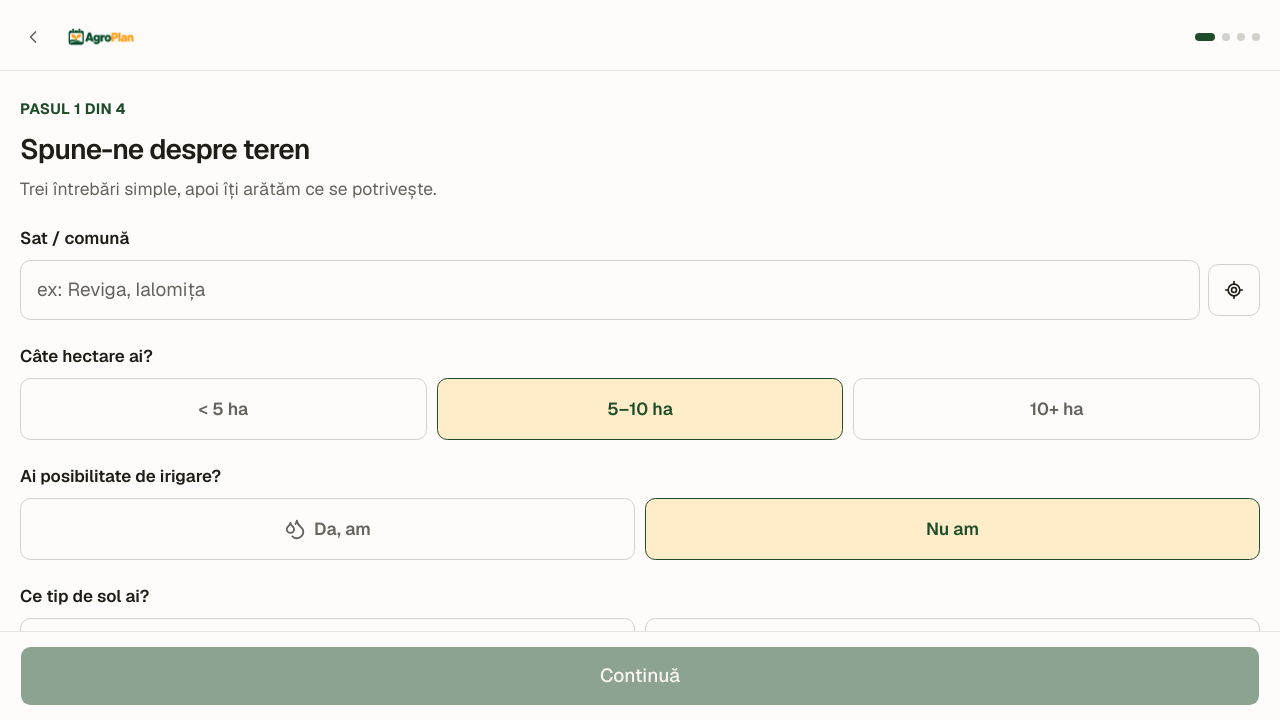
Test case: TerenScreen › shows the not-found message and stays on the form when nothing matches
Type "Xyzzy" into the field labelled "Sat / comună" at x=610, y=290, box x1=20 y1=260 x2=1200 y2=320
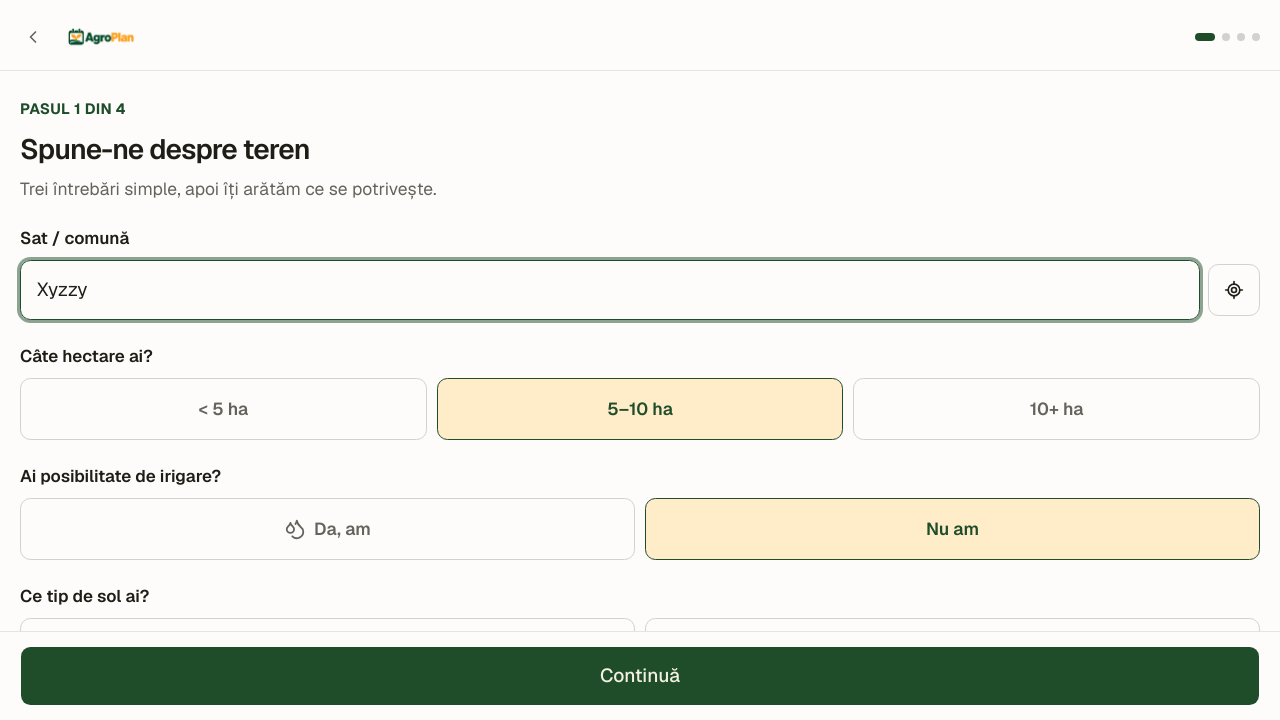
Click the button "Continuă" at x=640, y=676, box x1=20 y1=646 x2=1260 y2=706
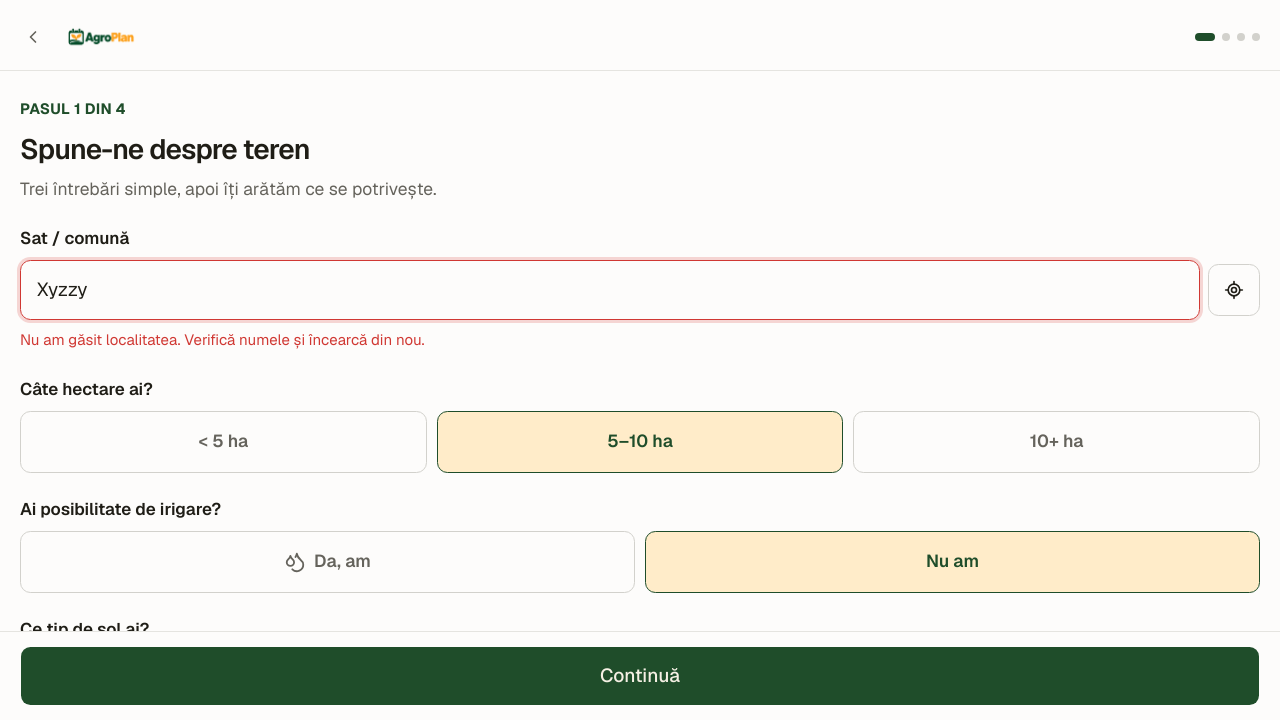
Result: the field labelled "Sat / comună" holds "Xyzzy" at x1=20 y1=260 x2=1200 y2=320
Result: the message shows "Nu am găsit localitatea" at x1=20 y1=330 x2=425 y2=349
